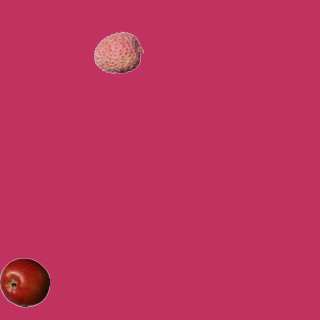Apple Braeburn: (0, 257, 49, 307)
Lychee: (93, 27, 143, 77)
